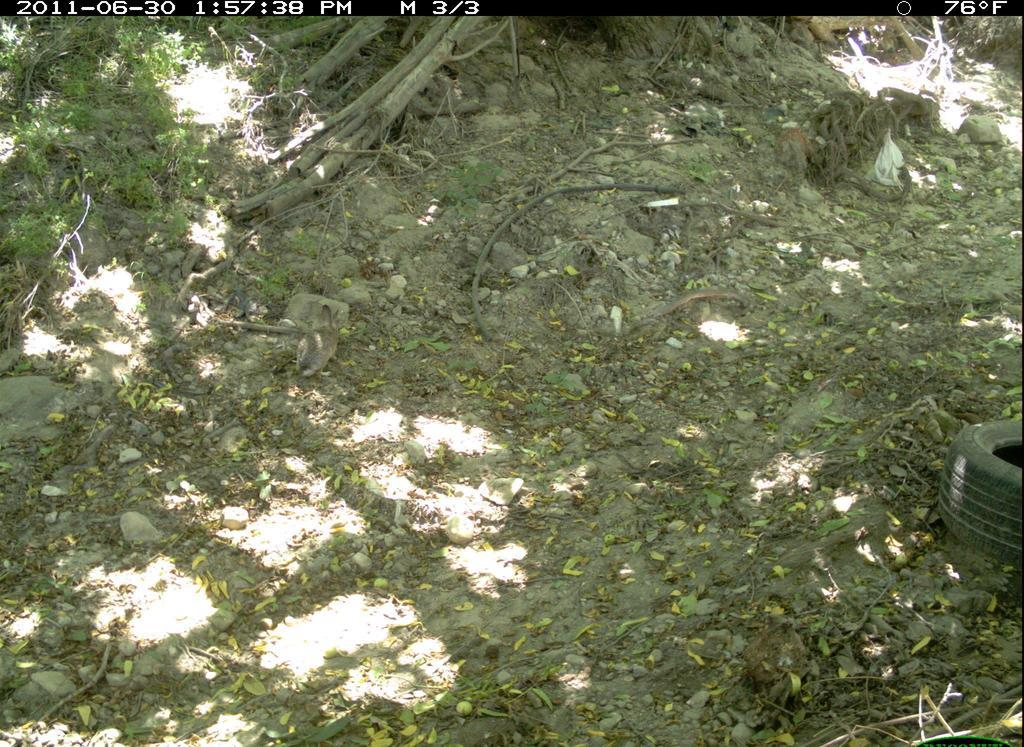rabbit: (291, 299, 347, 383)
